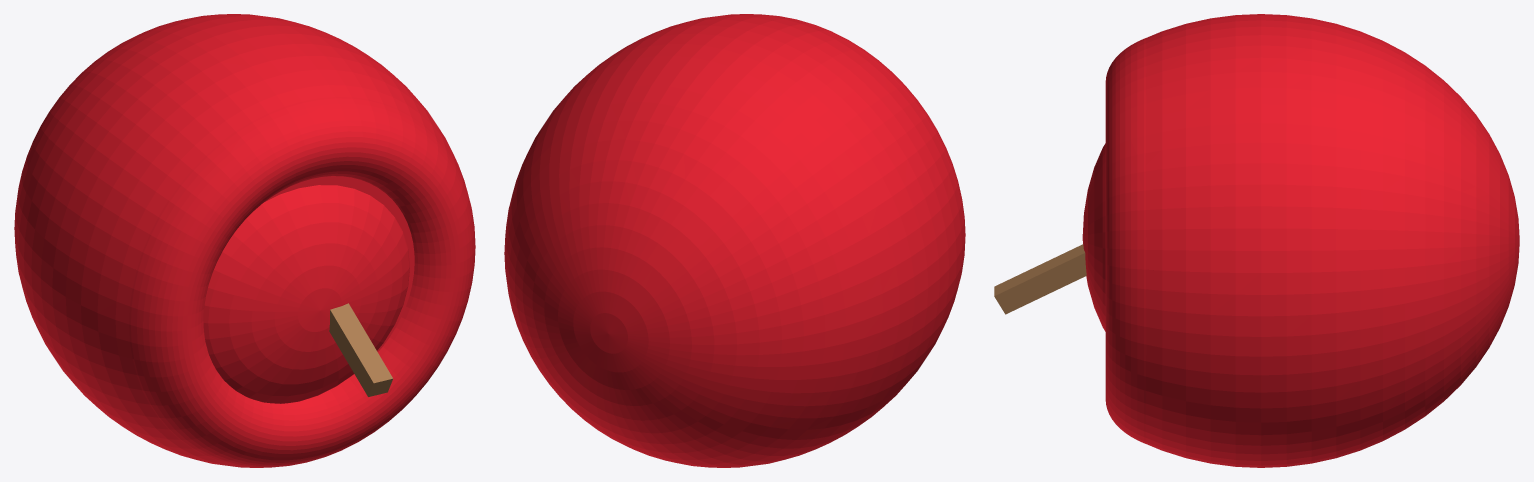
File: tinker.obj
3 views of the same model, side by side, from view 1: azimuth 30°, elevation 25°; view 2: azimuth 150°, elevation 25°; view 3: azimuth 270°, elevation 25° (orthographic).
Visible parts, largest first — view 1: group_0_15277357, group_0_11107152; view 2: group_0_15277357; view 3: group_0_15277357, group_0_11107152.
Part boxes in pixels (x1,y1,x2,y2): group_0_15277357: (14,14,475,467); group_0_11107152: (329,303,393,396); group_0_15277357: (504,14,965,467); group_0_15277357: (1082,14,1519,467); group_0_11107152: (994,244,1086,314).
Bounding box in the file's own units: 19.75 × 19.75 × 22.84.
